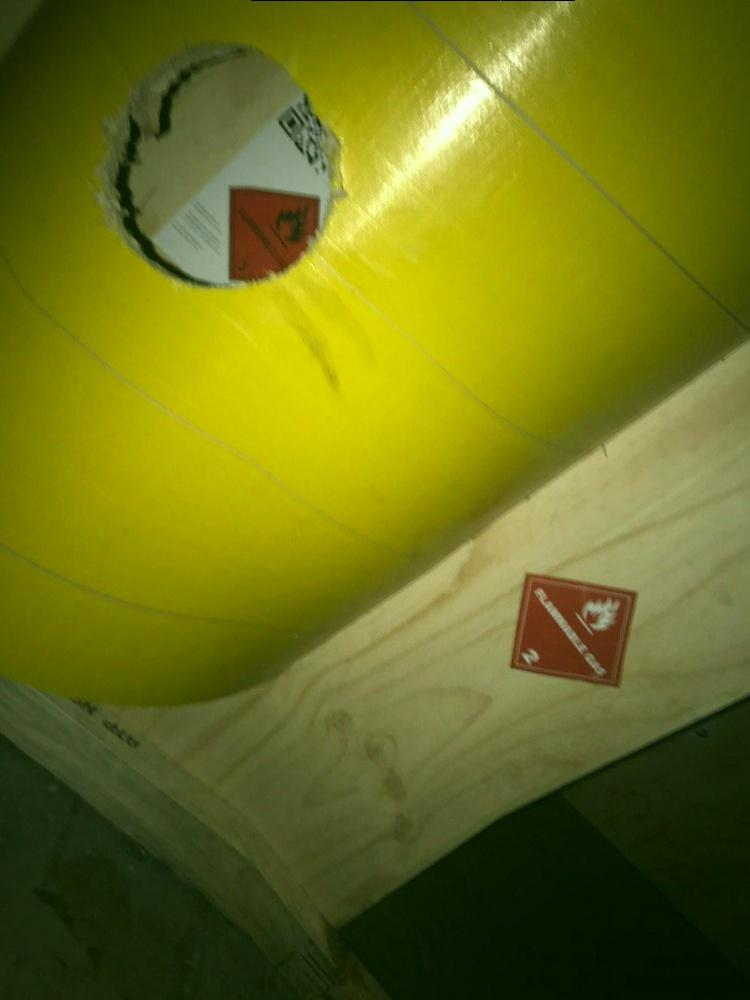flammable: (510, 570, 643, 688), (223, 187, 327, 284)
